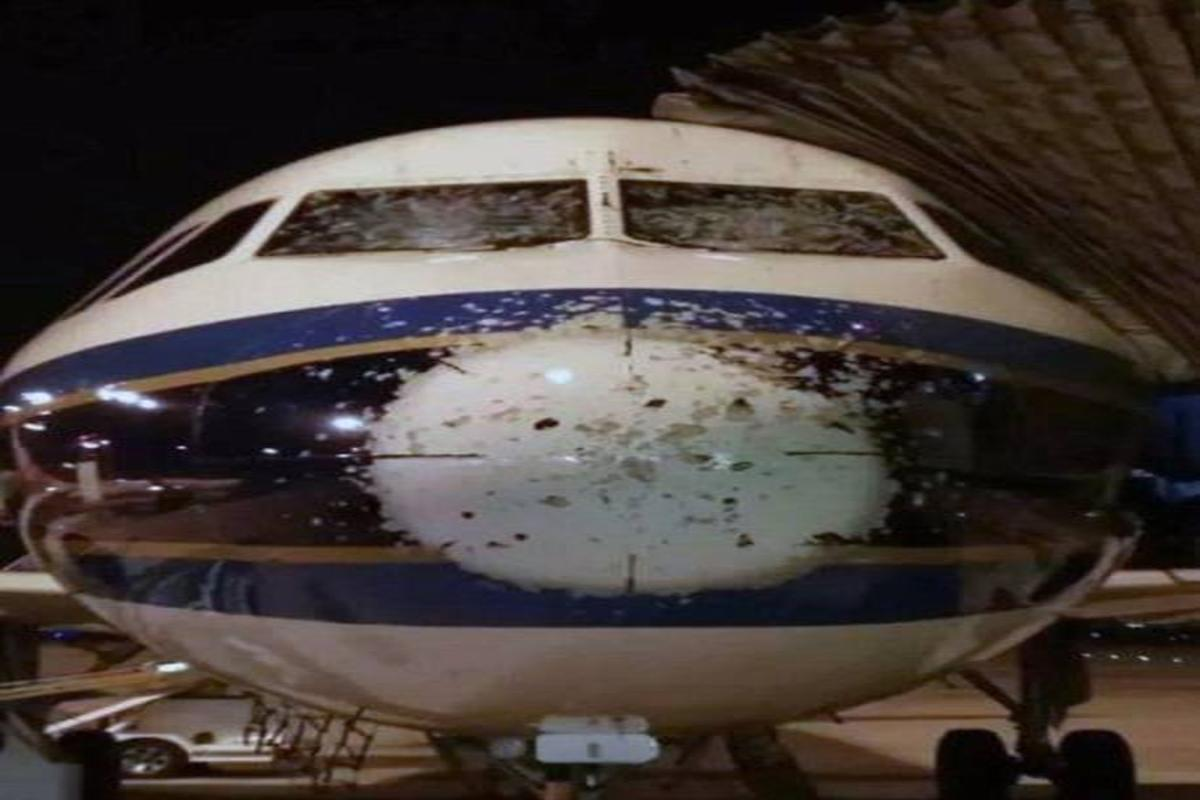Fuselage_damage: (345, 289, 923, 597), (619, 179, 947, 260), (254, 180, 590, 256)
